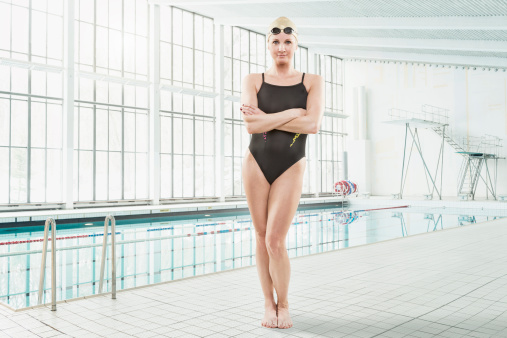em pe: (228, 12, 324, 323)
